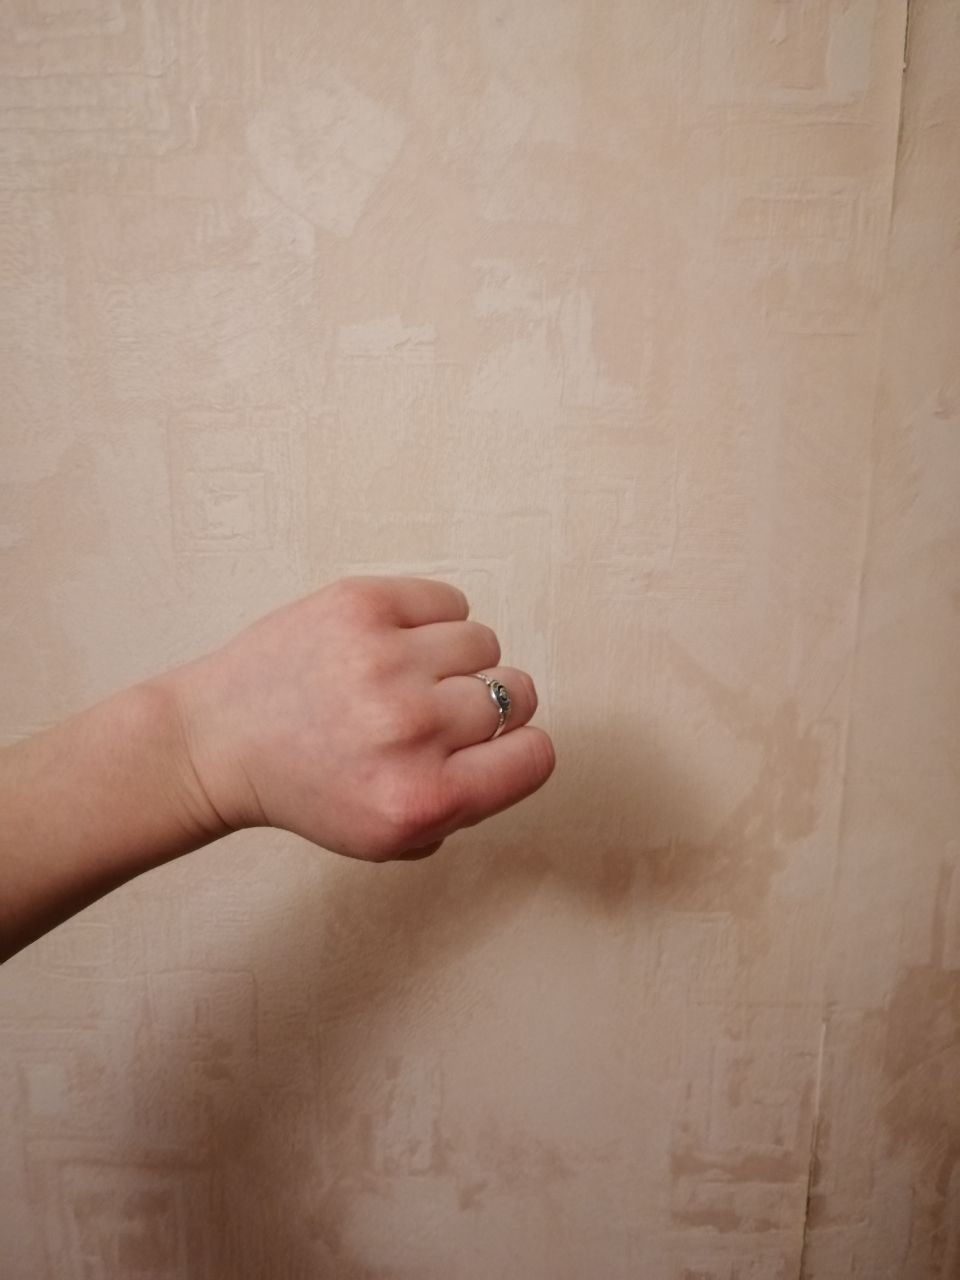hand: (227, 601, 529, 848)
